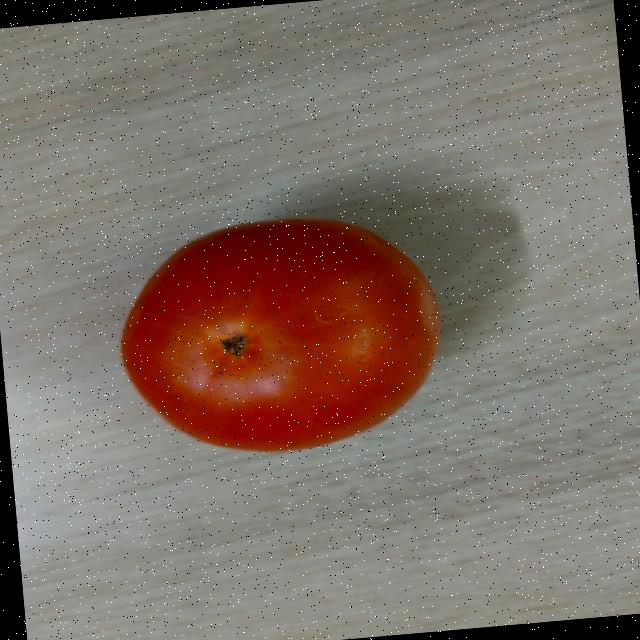Tomato: (105, 203, 454, 466)
